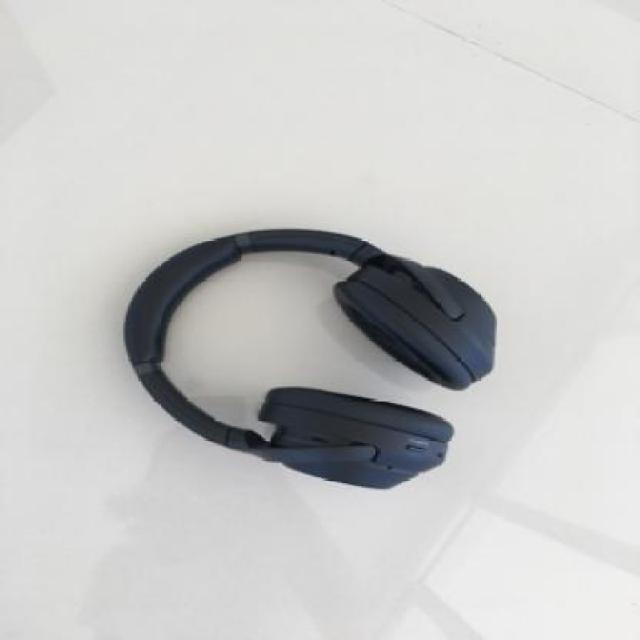earphone: (125, 119, 543, 508)
